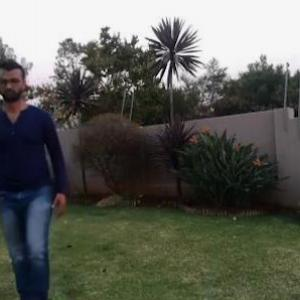follow: (1, 70, 63, 299)
